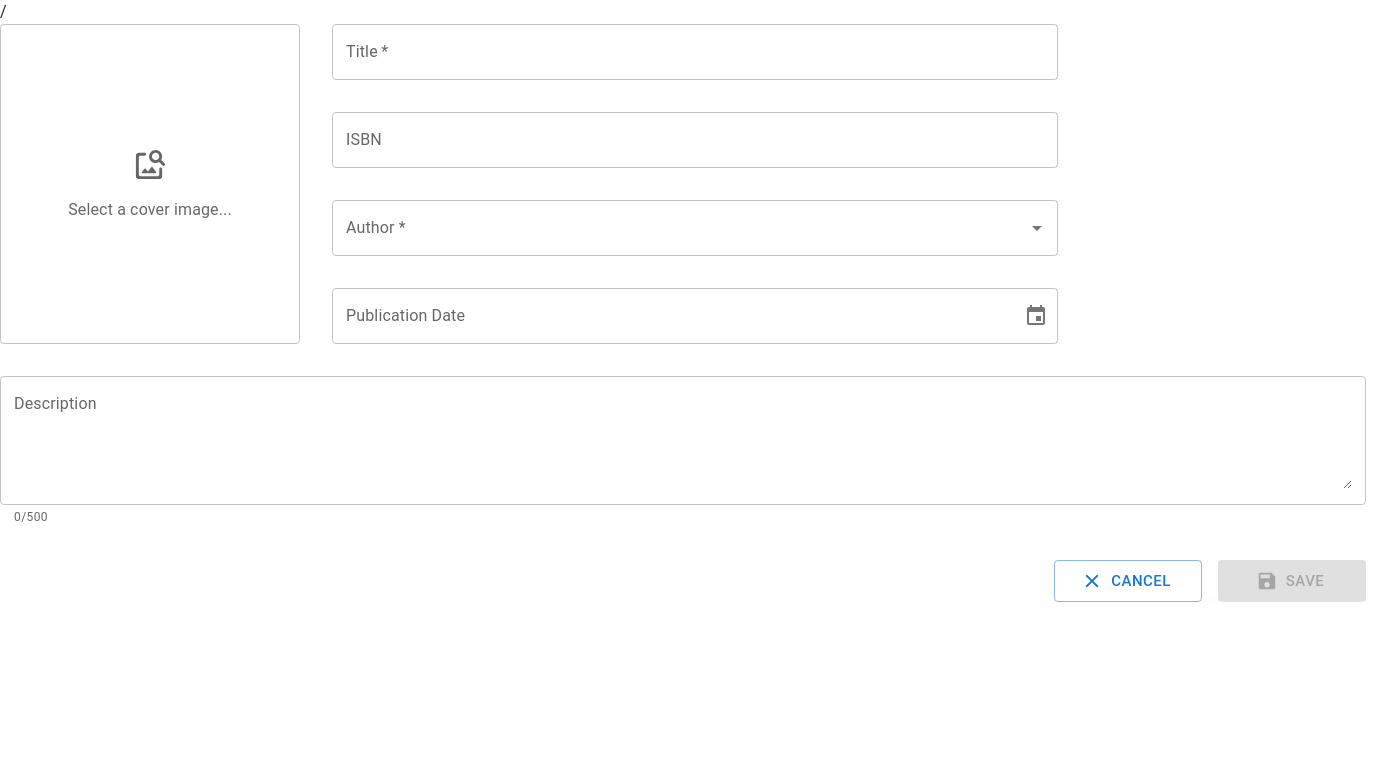
Test: BookForm › redirects to books page when clicking the Cancel button
The width and height of the screenshot is (1378, 768).
Click the button "Cancel" at (1128, 581), box [1054,560,1202,602]
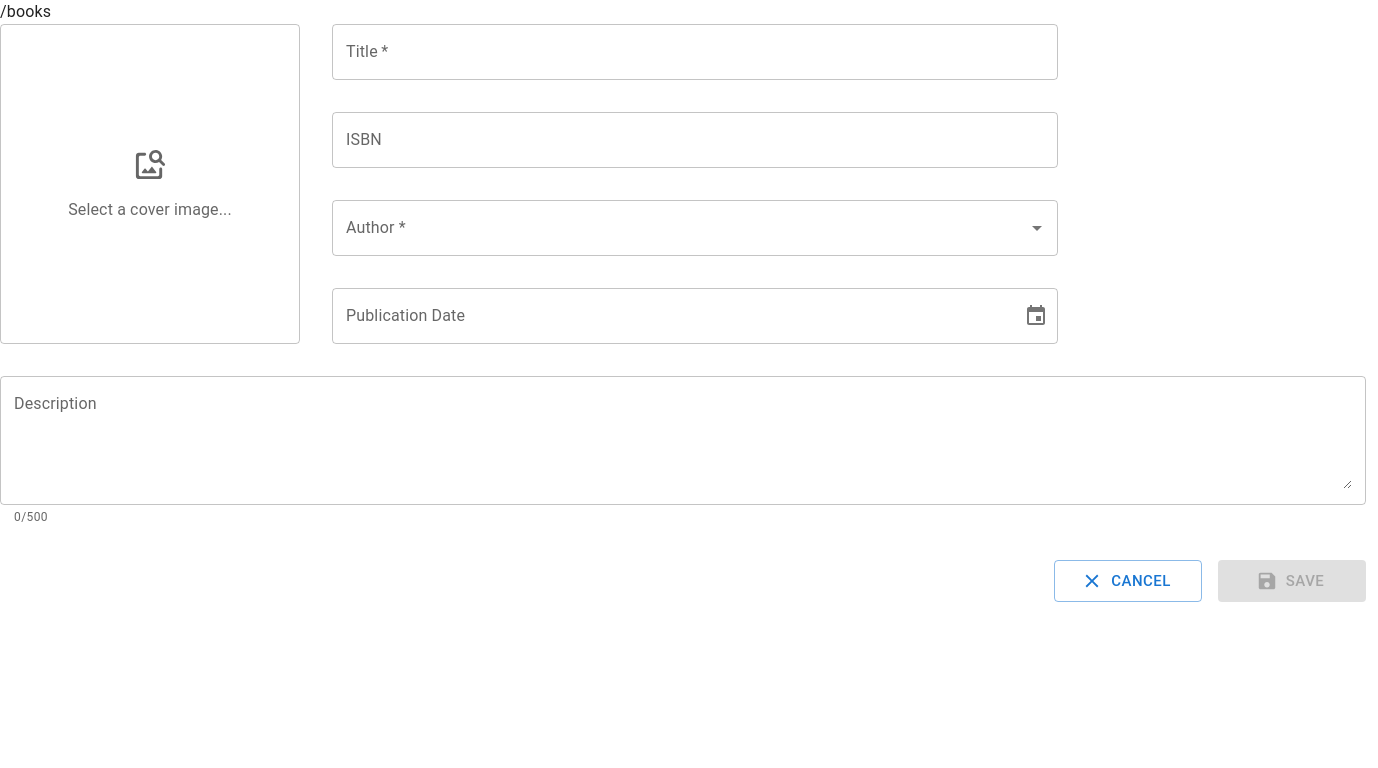
expect the text with test id "location" reads "/books": met, box [0,2,51,21]
